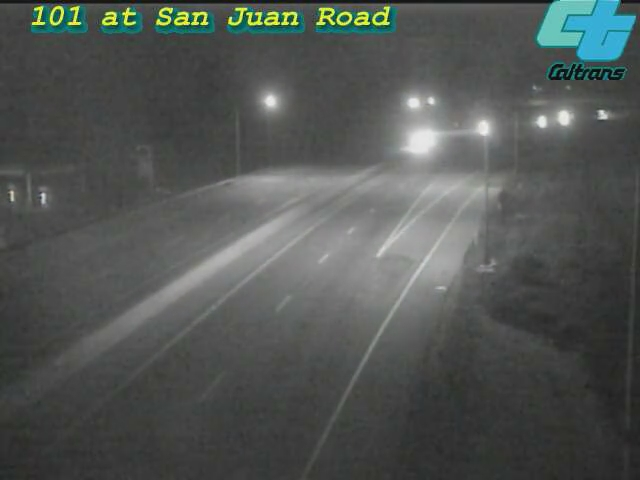vehicle: (579, 90, 629, 140), (394, 117, 444, 167), (460, 103, 510, 153), (513, 97, 563, 147), (538, 93, 588, 143)
